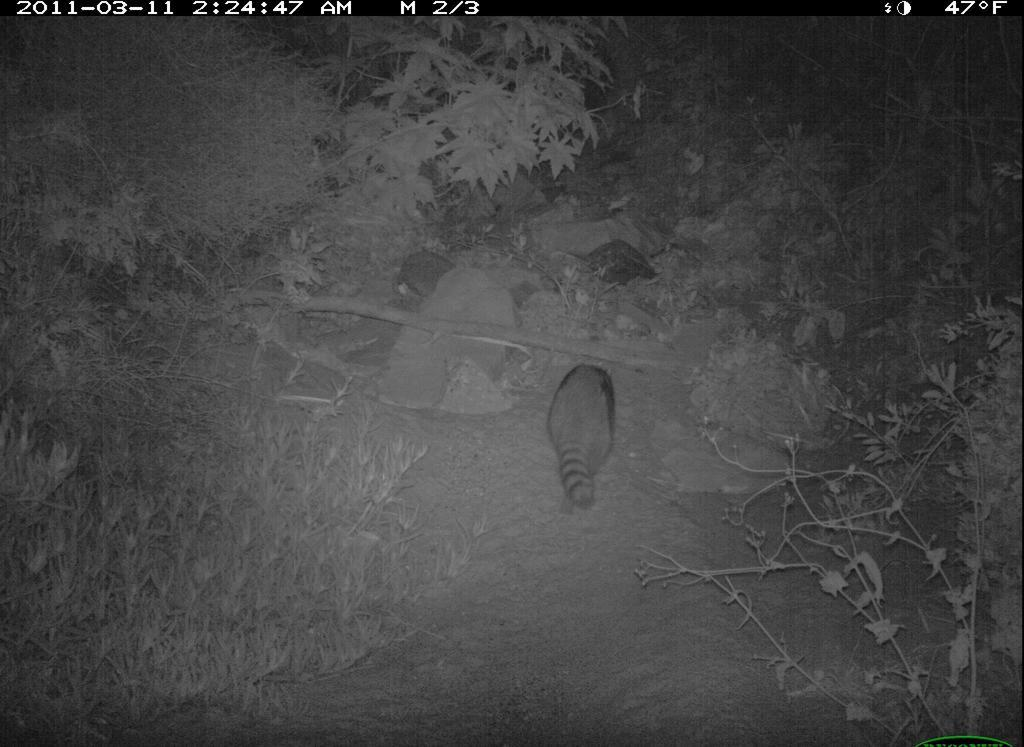raccoon: (538, 346, 632, 515)
